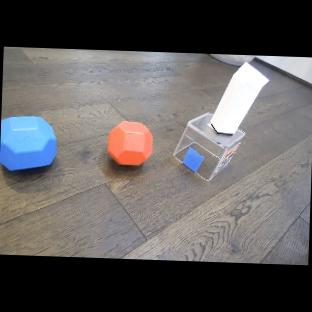V5_BLUE: (0, 116, 59, 175)
V5_RED: (107, 120, 153, 167)
